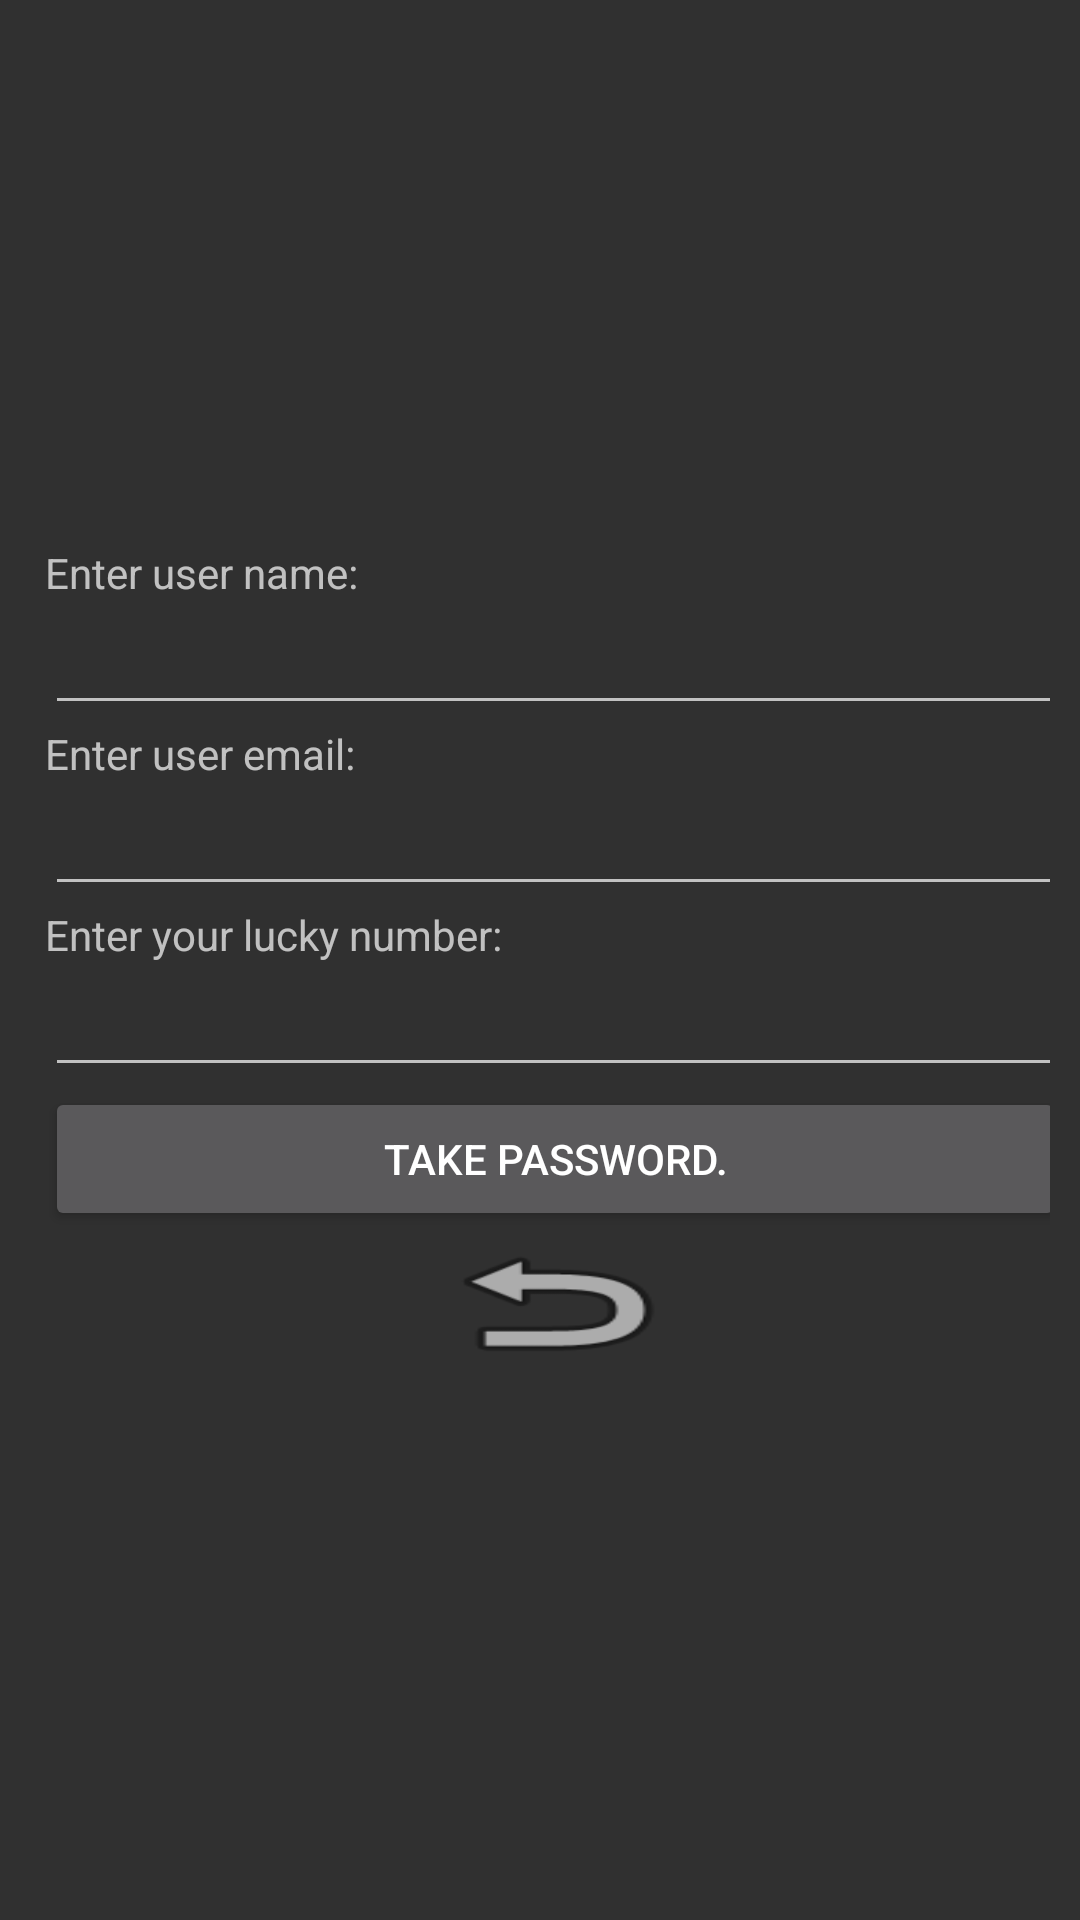

Screen size 1080w x 1920h. Icon name, then its center in pixels as (x=x, y=y):
revert: (x=558, y=1304)
